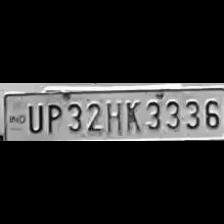2: (84, 99, 104, 133)
3: (142, 97, 162, 130), (162, 96, 180, 130), (182, 96, 200, 130), (64, 100, 82, 132)
6: (201, 96, 221, 130)
H: (104, 99, 122, 134)
K: (122, 97, 140, 132)
P: (43, 100, 62, 134)
U: (24, 102, 43, 132)
